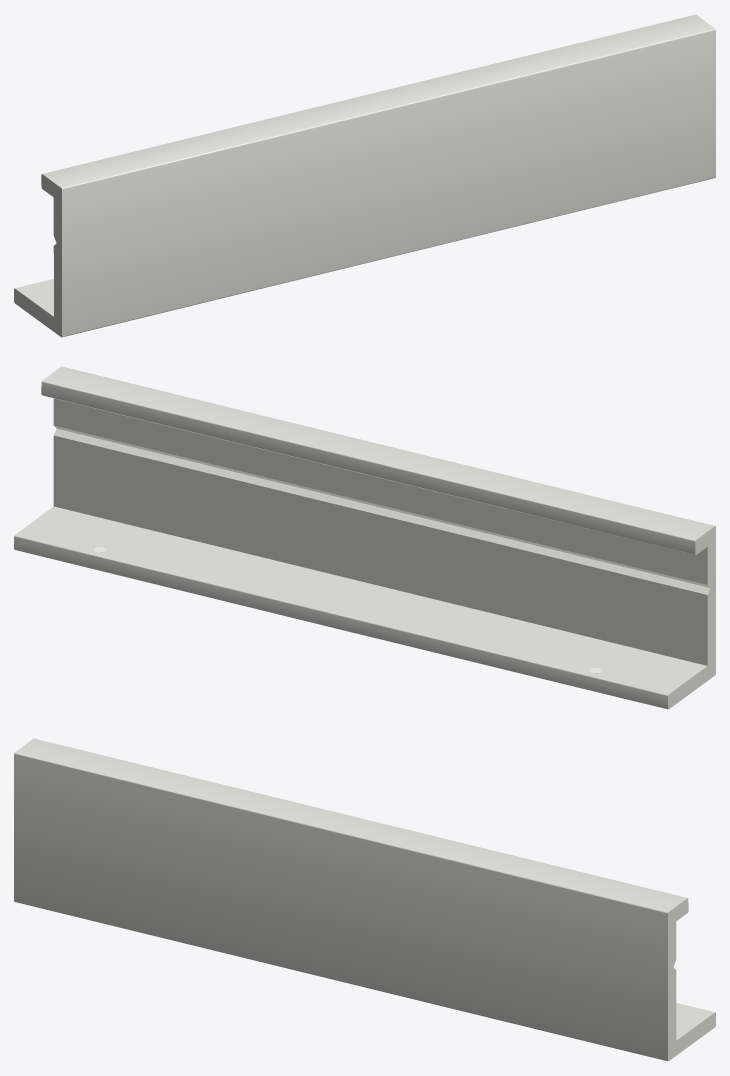
The model's file is mosslanda_poka_na_zdjecia_40291766.glb.
3 views of the same model, one above another, from view 1: azimuth 30°, elevation 25°; view 2: azimuth 150°, elevation 25°; view 3: azimuth 330°, elevation 25° (orthographic).
Parts seen in each view (by area): view 1: mosslanda_poka_na_zdjecia_40291766; view 2: mosslanda_poka_na_zdjecia_40291766; view 3: mosslanda_poka_na_zdjecia_40291766.
Boxes of the visible parts, box(x1,y1,x2,y2) form: mosslanda_poka_na_zdjecia_40291766: box(14, 14, 715, 337); mosslanda_poka_na_zdjecia_40291766: box(14, 366, 715, 709); mosslanda_poka_na_zdjecia_40291766: box(14, 738, 715, 1061).
Size of the model in its own units: 0.55 by 0.12 by 0.07.
Materials: 1 (1 with a texture image).
